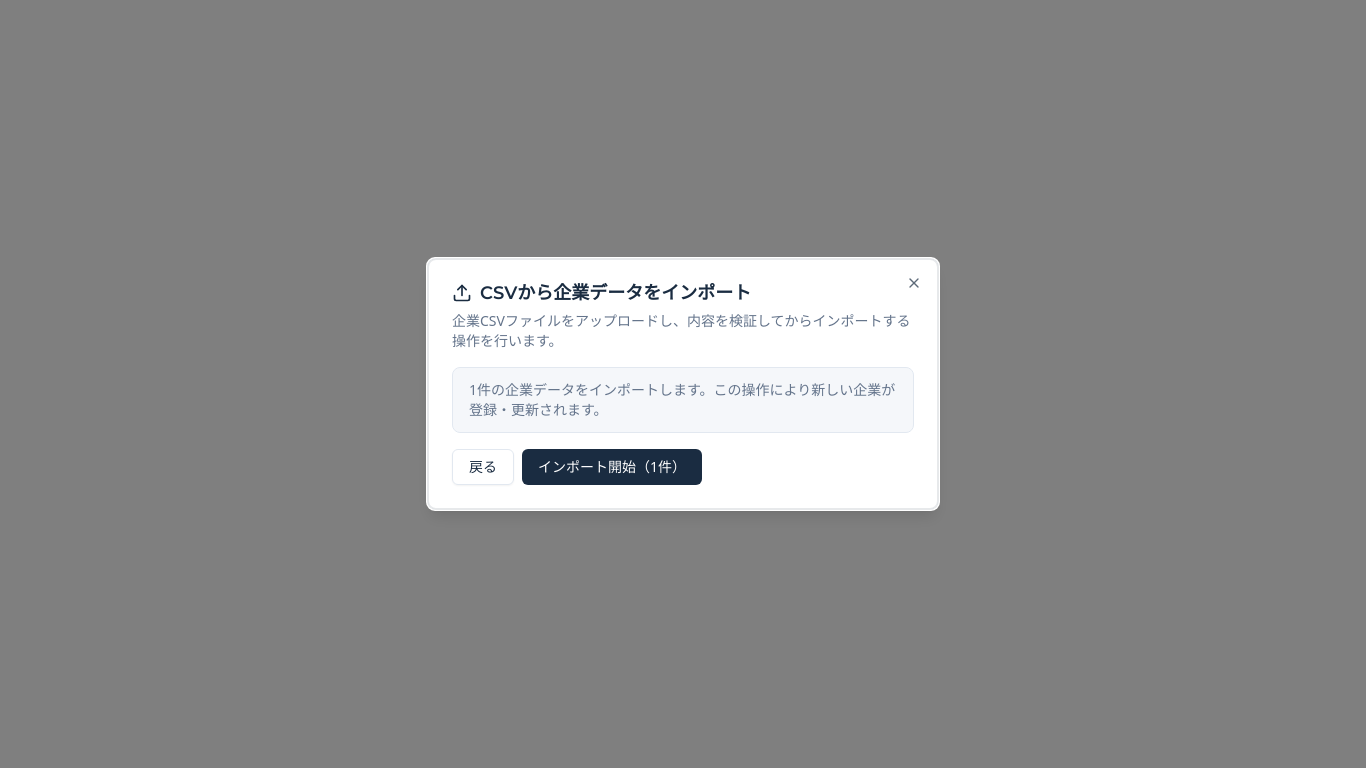
Test: CSVImportDialog › imports data successfully after validation
Earlier steps of the test are not shown.
Later steps or results of the test are not shown.
Click the button "インポート開始（1件）" at (612, 467), box [522,449,702,485]
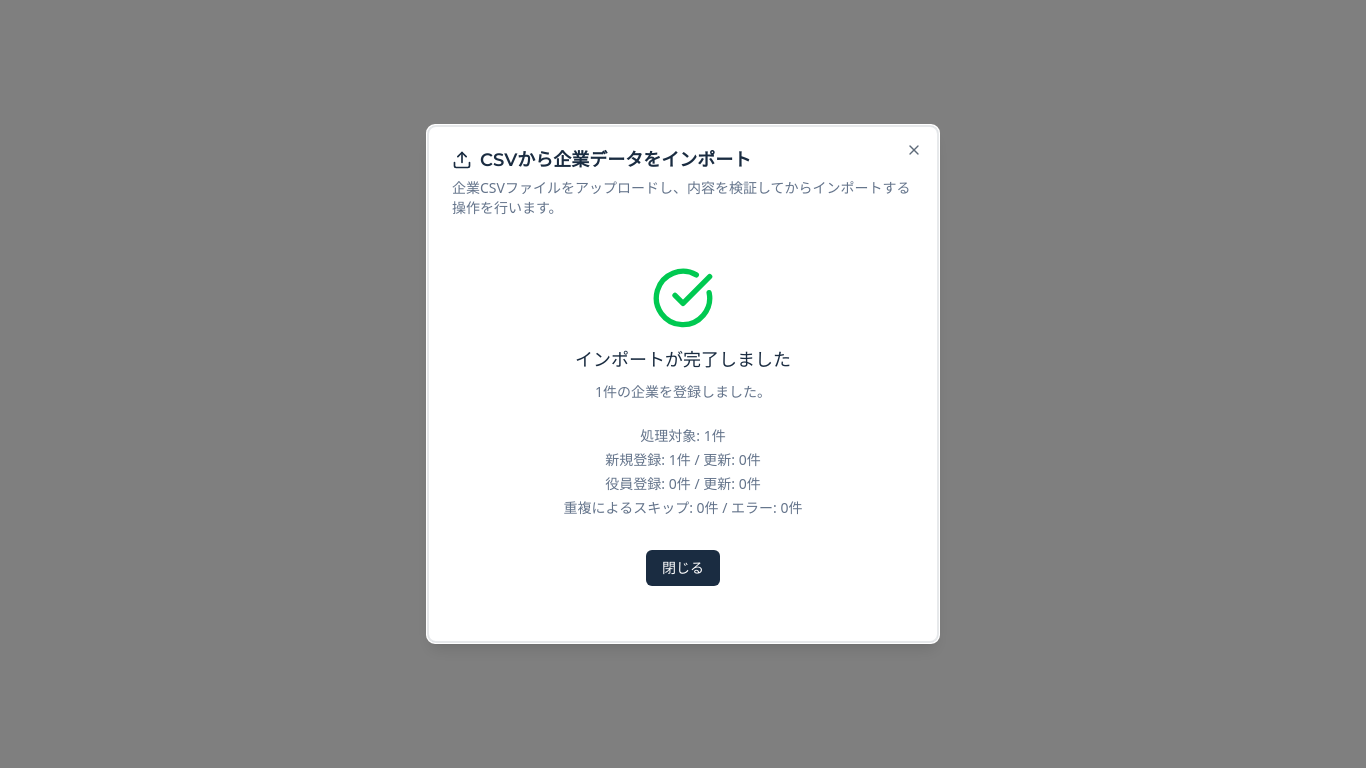
Now the heading "インポートが完了しました" is shown, box [575,346,791,374]
